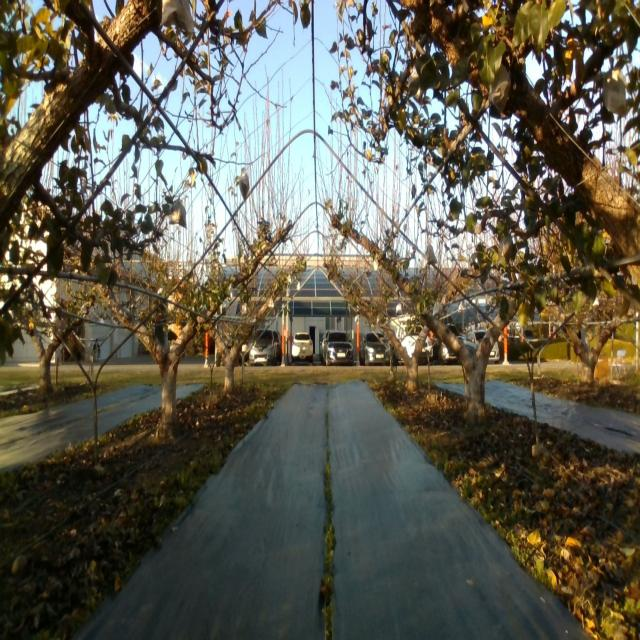pearbags: (160, 0, 195, 36), (602, 69, 626, 116), (169, 201, 187, 228), (425, 245, 437, 265)
